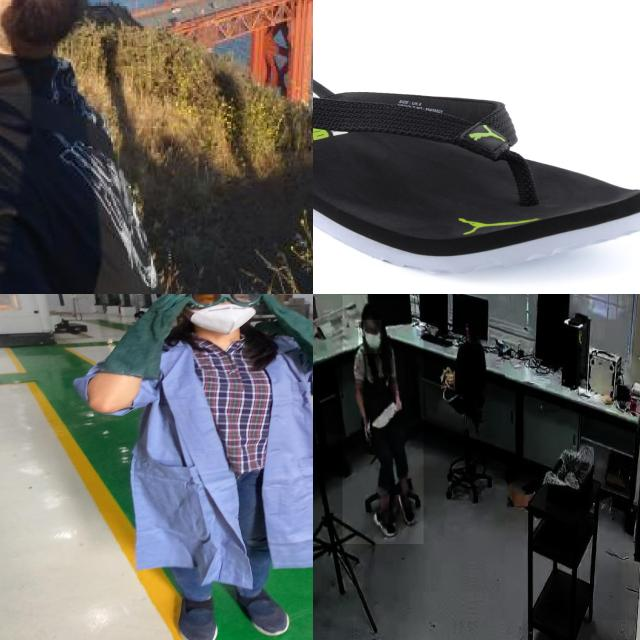Sandals: (313, 53, 640, 277)
face_mask: (174, 294, 265, 333), (358, 320, 382, 354)
glasses: (169, 294, 269, 310)
hand_glove: (125, 294, 193, 338), (246, 294, 308, 336)
hand_noglove: (362, 417, 372, 444), (392, 391, 402, 411)
head_nohelmet: (358, 302, 384, 322)
person: (66, 294, 313, 640), (0, 0, 193, 294), (342, 295, 424, 545)
shoes: (227, 587, 294, 638), (160, 591, 229, 640), (392, 477, 416, 529), (372, 504, 399, 542)
